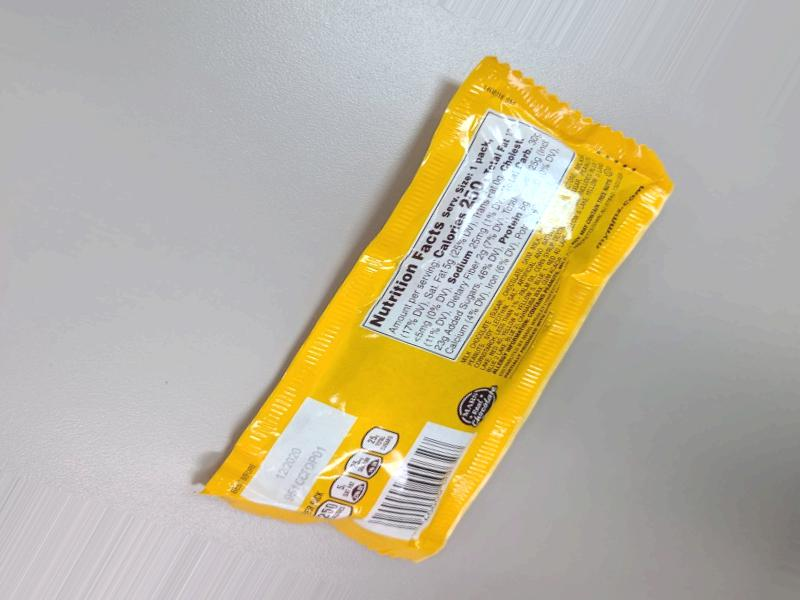m&m: (279, 76, 721, 600)
